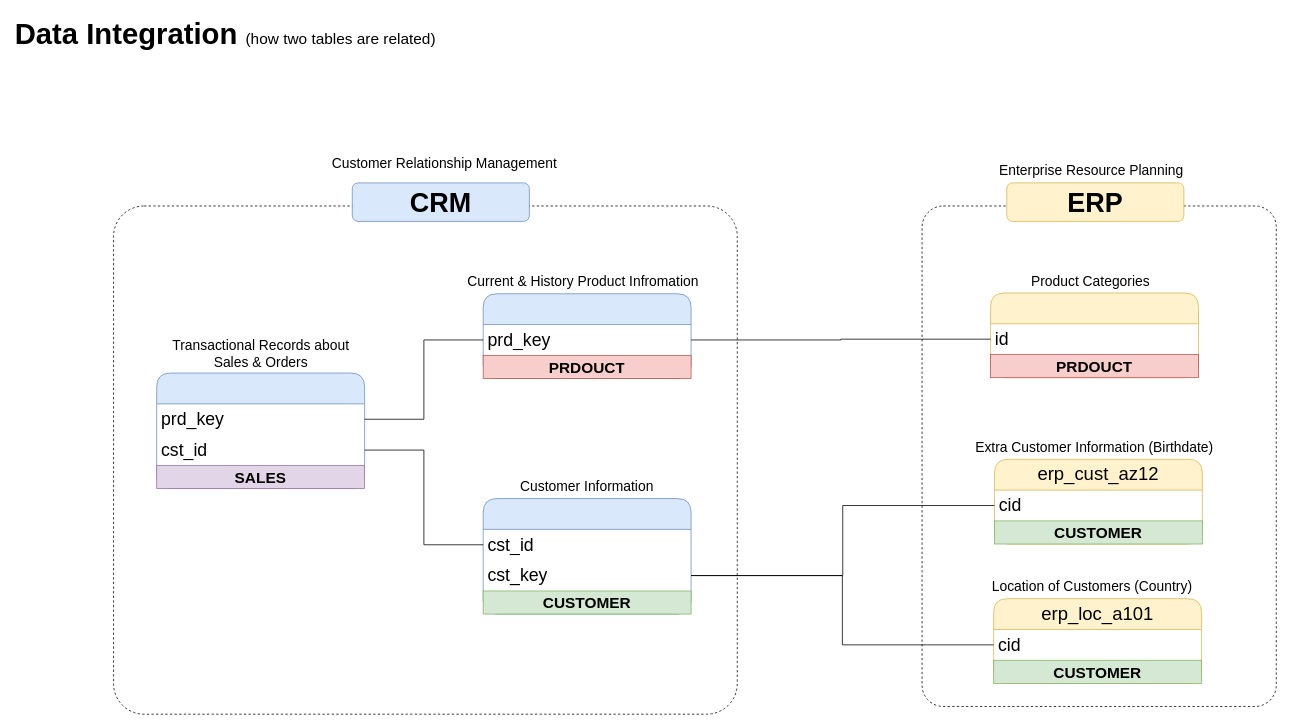
This 1290x728 diagram has some shape labels left out. The box of each missing label's shape, as (x1, y1, x2, y2) in pixels:
crm_cust_info: (482, 498, 691, 614)
crm_prd_info: (482, 293, 691, 378)
crm_sales_details: (156, 372, 365, 489)
erp_px_cat_g1v2: (990, 292, 1199, 378)
